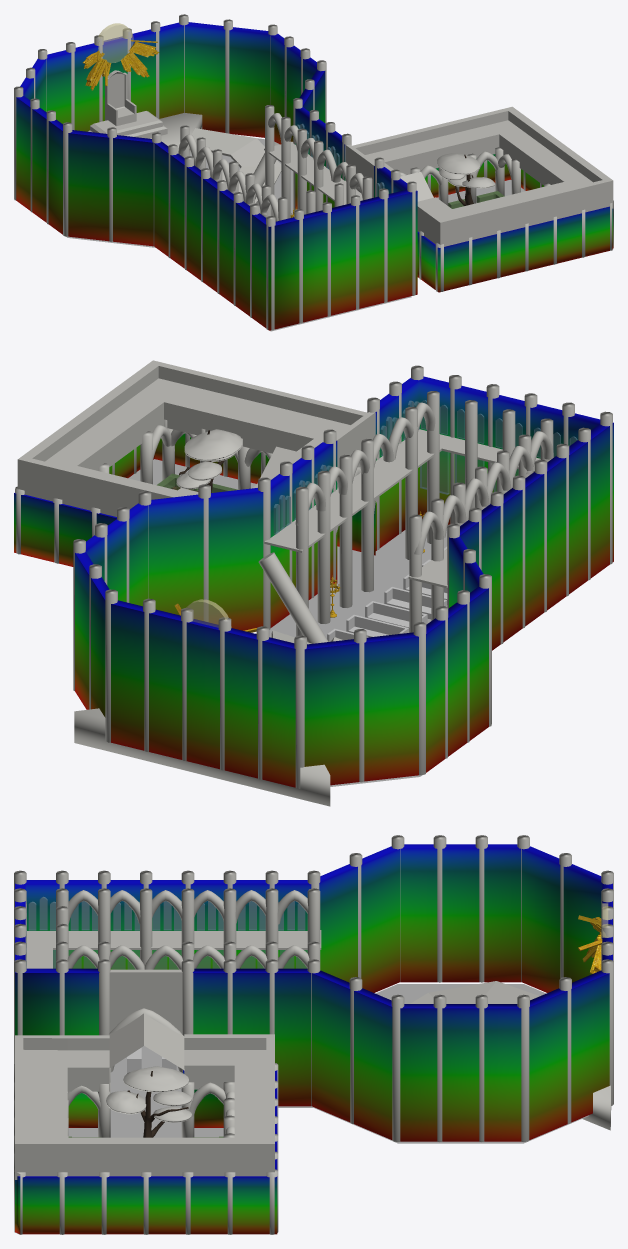
File: blockout 2.fbx
3 views of the same model, one above another, from view 1: azimuth 30°, elevation 25°; view 2: azimuth 150°, elevation 25°; view 3: azimuth 270°, elevation 25° (orthographic). The views are drawn at different scales.
Parts seen in each view (by area): view 1: cathedral_body, cloister_roof, cloister_body, stairs, balcony, curve_object1, throne, branches, pedestal, occulus, walkway_roof; view 2: cathedral_body, cloister_roof, cloister_body, balcony, curve_object1, stairs, branches, pCylinder2, pew3, pew4, occulus, pew2 (+3 smaller); view 3: cathedral_body, cloister_roof, cloister_body, balcony, curve_object1, branches, walkway_roof, stairs, triwindow1, triwindow3, its_a_tree_alright, triwindow (+2 smaller).
Boxes of the visible parts, x1=… form: cathedral_body: x1=14, y1=14, x2=417, y2=330; cloister_roof: x1=352, y1=106, x2=613, y2=247; cloister_body: x1=410, y1=147, x2=613, y2=292; stairs: x1=150, y1=113, x2=281, y2=185; balcony: x1=264, y1=141, x2=374, y2=204; curve_object1: x1=66, y1=138, x2=525, y2=331; throne: x1=105, y1=70, x2=136, y2=126; branches: x1=437, y1=153, x2=494, y2=188; pedestal: x1=88, y1=111, x2=167, y2=138; occulus: x1=98, y1=23, x2=133, y2=62; walkway_roof: x1=400, y1=171, x2=433, y2=201; cathedral_body: x1=73, y1=365, x2=613, y2=788; cloister_roof: x1=17, y1=360, x2=366, y2=516; cloister_body: x1=14, y1=419, x2=375, y2=583; balcony: x1=264, y1=412, x2=540, y2=588; curve_object1: x1=128, y1=459, x2=447, y2=786; stairs: x1=74, y1=708, x2=330, y2=806; branches: x1=176, y1=429, x2=242, y2=489; pCylinder2: x1=258, y1=552, x2=328, y2=643; pew3: x1=365, y1=601, x2=427, y2=632; pew4: x1=346, y1=614, x2=408, y2=637; occulus: x1=184, y1=599, x2=231, y2=627; pew2: x1=384, y1=587, x2=446, y2=619; cathedral_body: x1=14, y1=835, x2=613, y2=1141; cloister_roof: x1=15, y1=1034, x2=274, y2=1179; cloister_body: x1=14, y1=1063, x2=278, y2=1234; balcony: x1=27, y1=930, x2=321, y2=1034; curve_object1: x1=68, y1=984, x2=588, y2=1143; branches: x1=106, y1=1066, x2=191, y2=1122; walkway_roof: x1=109, y1=1013, x2=184, y2=1070; stairs: x1=410, y1=981, x2=611, y2=1130; triwindow1: x1=28, y1=896, x2=55, y2=930; triwindow3: x1=152, y1=901, x2=181, y2=930; its_a_tree_alright: x1=127, y1=1071, x2=188, y2=1137; triwindow: x1=70, y1=901, x2=97, y2=930.
Size of the model in its own units: 14.3 by 4.46 by 14.3.
